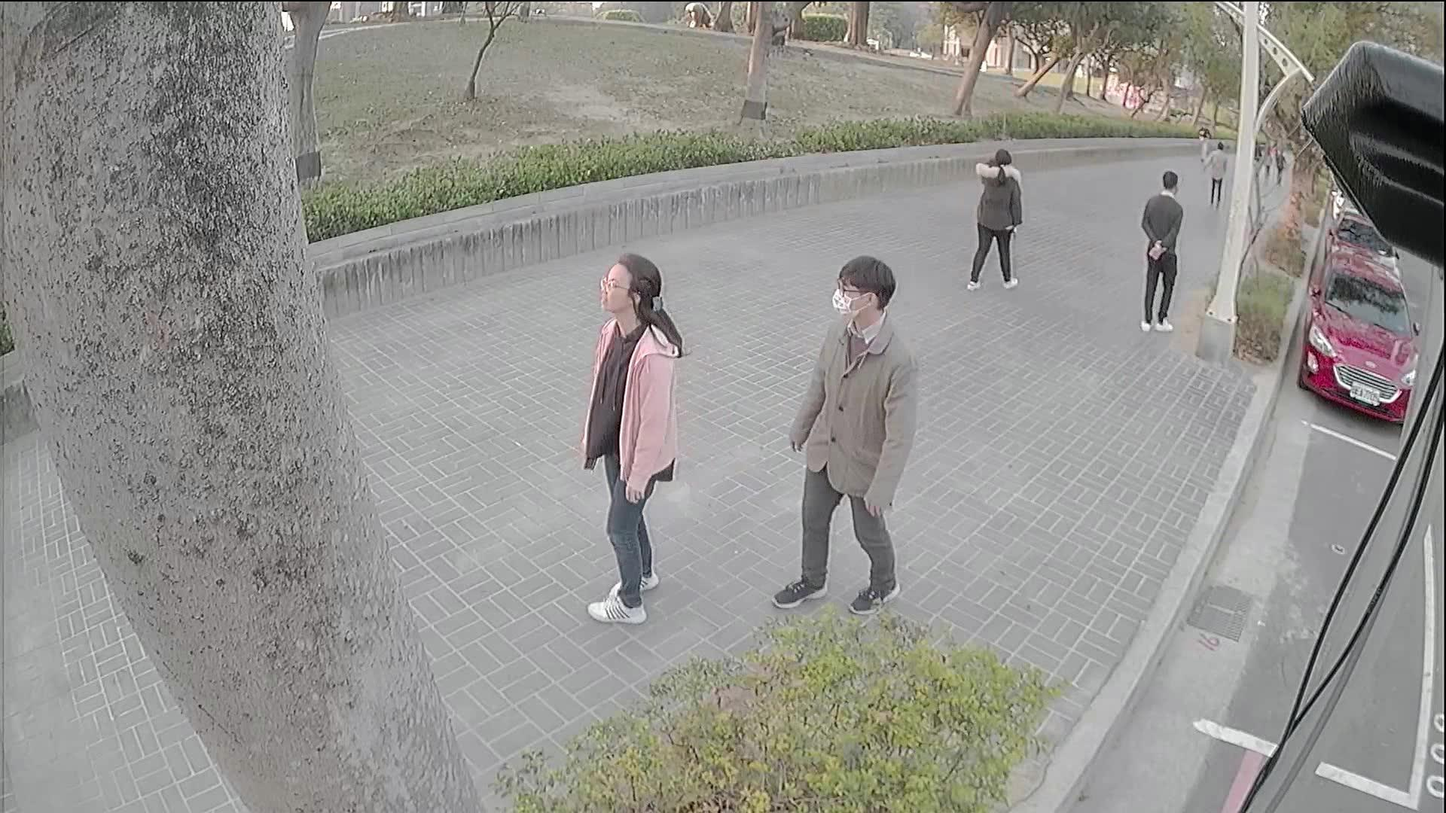person: (771, 254, 915, 611), (583, 253, 680, 623), (962, 148, 1020, 289), (1132, 172, 1179, 335), (1200, 135, 1228, 208)
